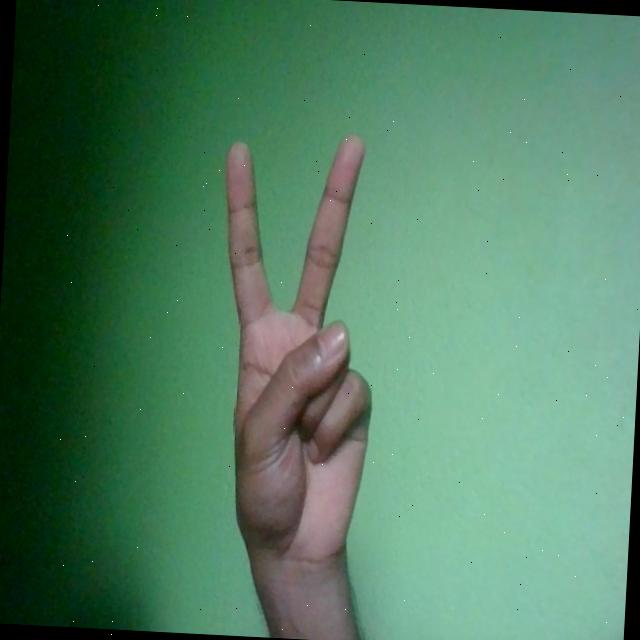Fist: (204, 126, 387, 579)
